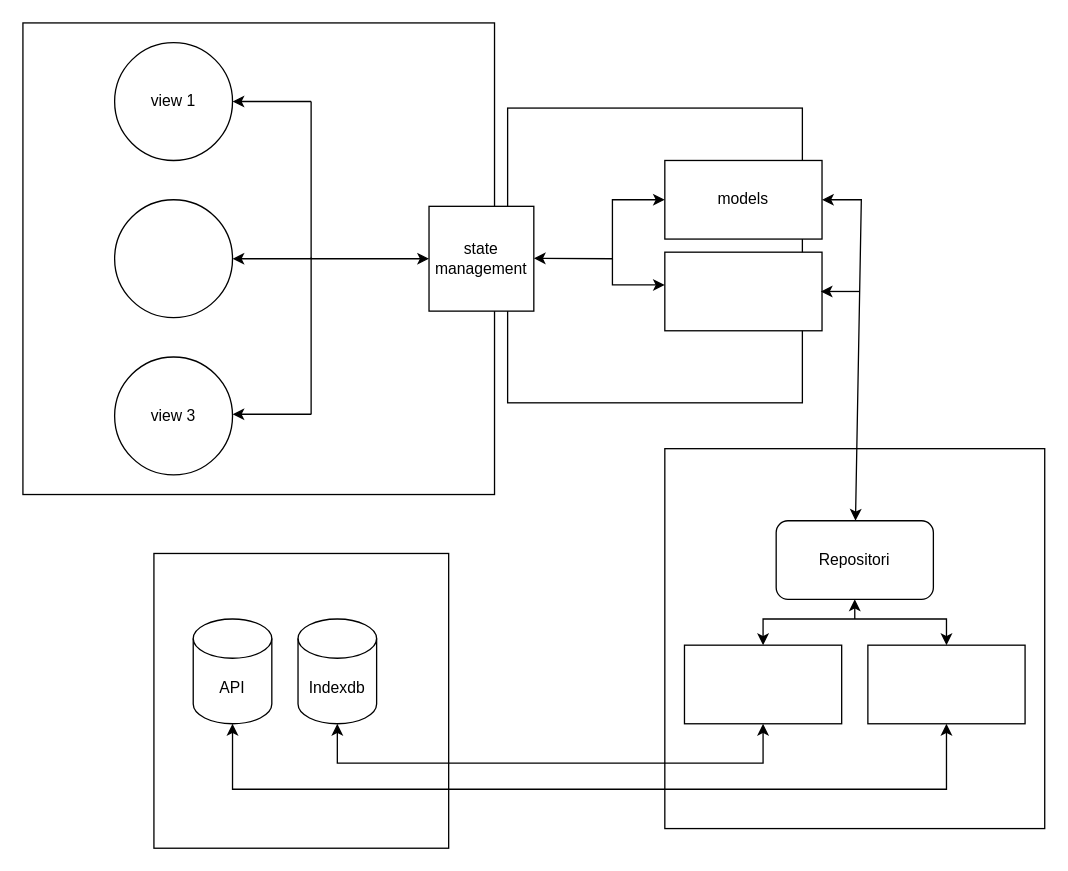
Some shapes in this 1068 by 871 pixel diagram are drawn without their labels. Here are the shapes that lost their labels. From the top down, the centre of each, then its label:
At point (173, 258): "view 2".
At point (743, 291): "usecase".
At point (762, 684): "local".
At point (946, 684): "remote".
